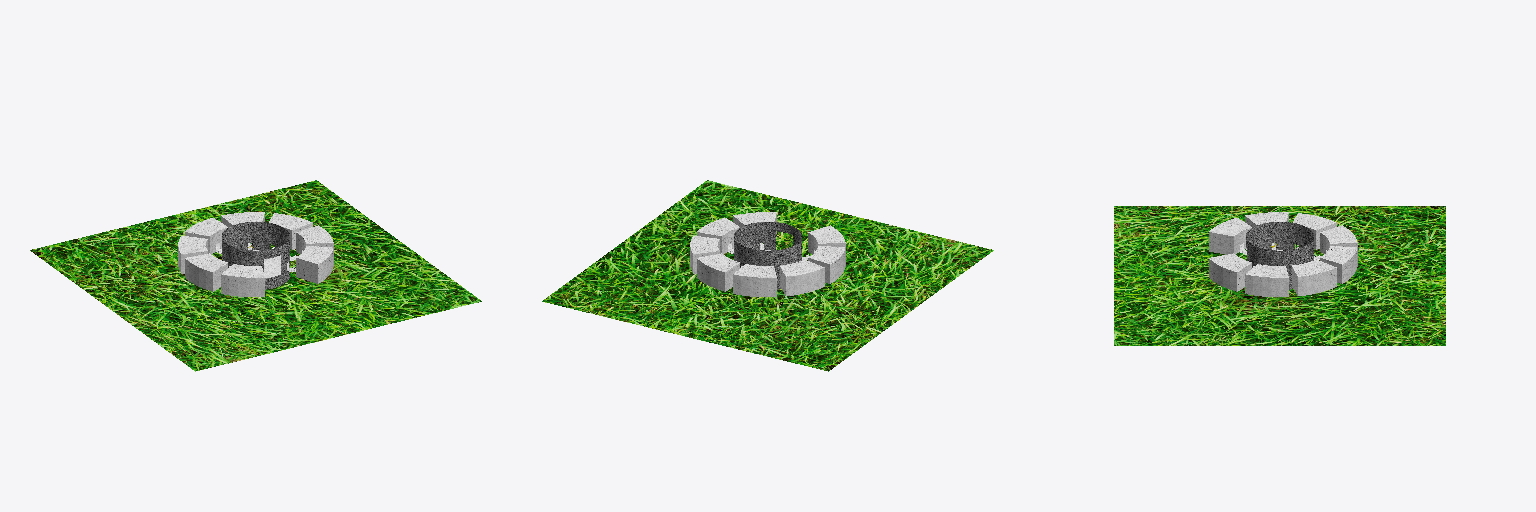
The picture shows the model from 3 angles: view 1: azimuth 30°, elevation 25°; view 2: azimuth 150°, elevation 25°; view 3: azimuth 270°, elevation 25°; orthographic projection.
Parts seen in each view (by area): view 1: pPlane1, pCylinder73, pCylinder72 polySurface6, pCylinder72 polySurface5, pCylinder72 polySurface7, pCylinder72 polySurface3, pCylinder72 polySurface8, pCylinder72 polySurface4, polySurface1 pCylinder72; view 2: pPlane1, pCylinder73, pCylinder72 polySurface4, pCylinder72 polySurface3, pCylinder72 polySurface2, pCylinder72 polySurface5, pCylinder72 polySurface8, pCylinder72 polySurface6, polySurface1 pCylinder72; view 3: pPlane1, pCylinder73, polySurface1 pCylinder72, pCylinder72 polySurface8, pCylinder72 polySurface7, pCylinder72 polySurface6, pCylinder72 polySurface2, pCylinder72 polySurface3, pCylinder72 polySurface4.
Part boxes in pixels (left/top/right/bottom): pPlane1: left=30, top=180, right=481, bottom=371; pCylinder73: left=222, top=222, right=289, bottom=289; pCylinder72 polySurface6: left=221, top=264, right=264, bottom=296; pCylinder72 polySurface5: left=185, top=253, right=227, bottom=291; pCylinder72 polySurface7: left=296, top=246, right=333, bottom=283; pCylinder72 polySurface3: left=185, top=218, right=227, bottom=254; pCylinder72 polySurface8: left=296, top=225, right=333, bottom=253; pCylinder72 polySurface4: left=178, top=236, right=207, bottom=273; polySurface1 pCylinder72: left=269, top=213, right=312, bottom=249; pPlane1: left=542, top=180, right=993, bottom=371; pCylinder73: left=734, top=222, right=801, bottom=289; pCylinder72 polySurface4: left=780, top=259, right=824, bottom=295; pCylinder72 polySurface3: left=733, top=264, right=776, bottom=296; pCylinder72 polySurface2: left=697, top=253, right=739, bottom=291; pCylinder72 polySurface5: left=808, top=246, right=845, bottom=283; pCylinder72 polySurface8: left=697, top=218, right=739, bottom=254; pCylinder72 polySurface6: left=808, top=225, right=845, bottom=254; polySurface1 pCylinder72: left=690, top=236, right=719, bottom=273; pPlane1: left=1114, top=206, right=1445, bottom=345; pCylinder73: left=1246, top=222, right=1313, bottom=289; polySurface1 pCylinder72: left=1292, top=259, right=1336, bottom=295; pCylinder72 polySurface8: left=1245, top=264, right=1288, bottom=296; pCylinder72 polySurface7: left=1209, top=253, right=1251, bottom=291; pCylinder72 polySurface6: left=1209, top=218, right=1251, bottom=254; pCylinder72 polySurface2: left=1320, top=246, right=1357, bottom=283; pCylinder72 polySurface3: left=1320, top=225, right=1357, bottom=253; pCylinder72 polySurface4: left=1293, top=213, right=1336, bottom=249.
Bounding box in the file's own units: 106 × 14 × 106.
5 materials, 4 textured.